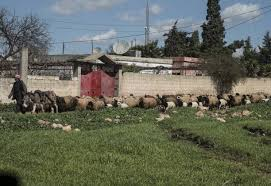sheep: (115, 94, 139, 109), (71, 95, 89, 110), (138, 94, 156, 108), (57, 96, 74, 110), (87, 99, 104, 112), (158, 100, 176, 112), (200, 95, 218, 107), (98, 94, 115, 106), (175, 94, 193, 105), (225, 94, 241, 104), (249, 92, 265, 102), (186, 100, 199, 109), (177, 99, 188, 108), (218, 98, 227, 107), (242, 95, 250, 105)
